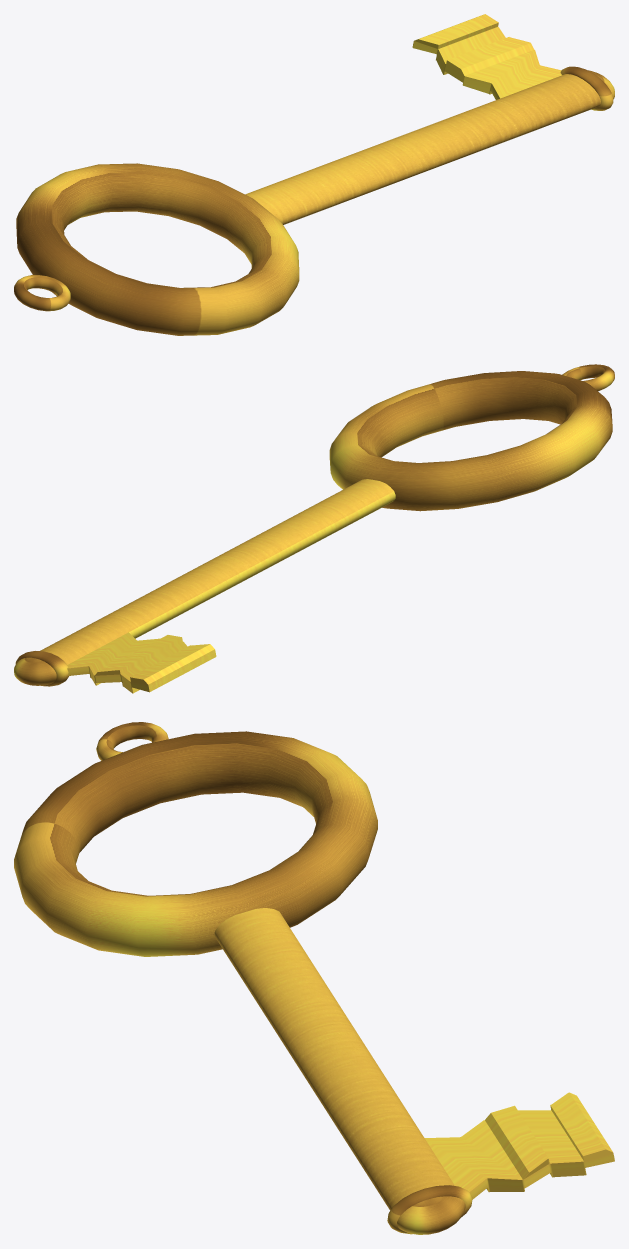
File: key.fbx
3 views of the same model, one above another, from view 1: azimuth 30°, elevation 25°; view 2: azimuth 210°, elevation 25°; view 3: azimuth 270°, elevation 25° (orthographic). The views are drawn at different scales.
Visible parts, largest first — view 1: pasted__pTorus2; view 2: pasted__pTorus2; view 3: pasted__pTorus2.
Boxes of the visible parts, x1,y1,x2,y2 form: pasted__pTorus2: (14,14,614,335); pasted__pTorus2: (14,364,614,693); pasted__pTorus2: (14,722,614,1234).
Bounding box in the file's own units: 120 × 14.98 × 69.14.
